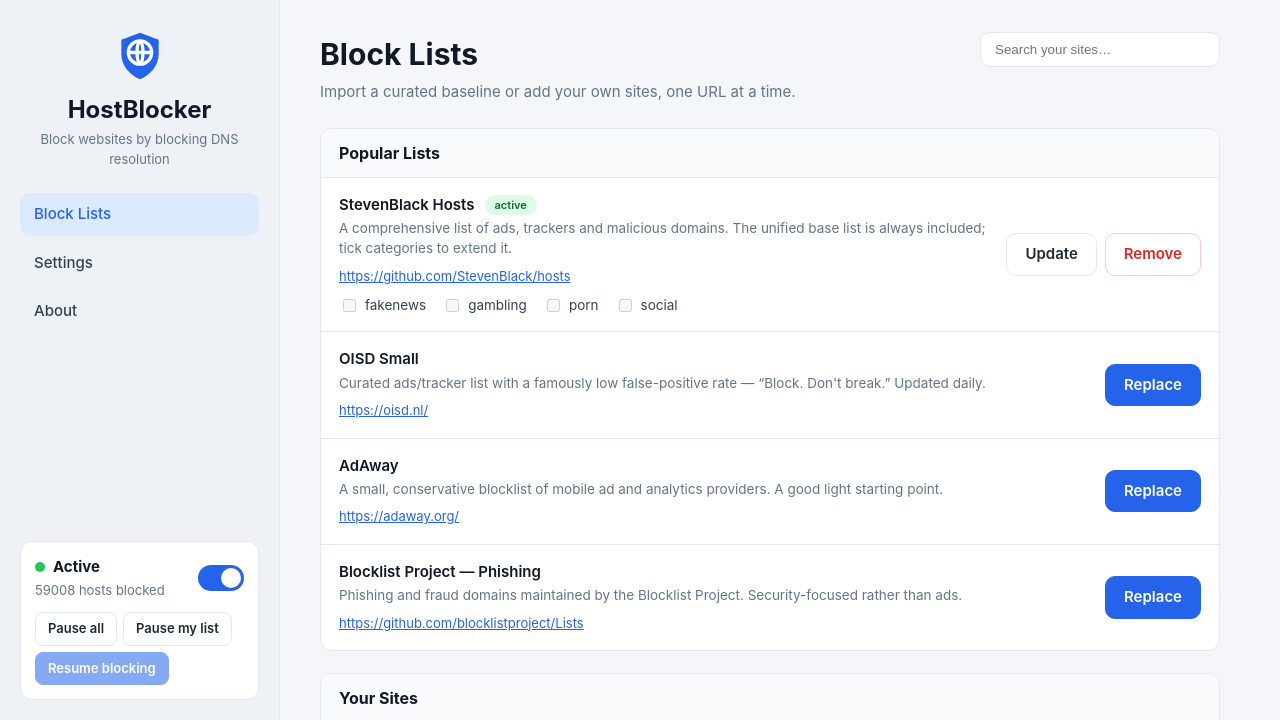
App › filters the site list through the search box, case- and space-insensitively
Type "  YouTuBe " into the search field.
click(1100, 50); type("  YouTuBe ")  # box [980,32,1220,67]
(page scrolled)
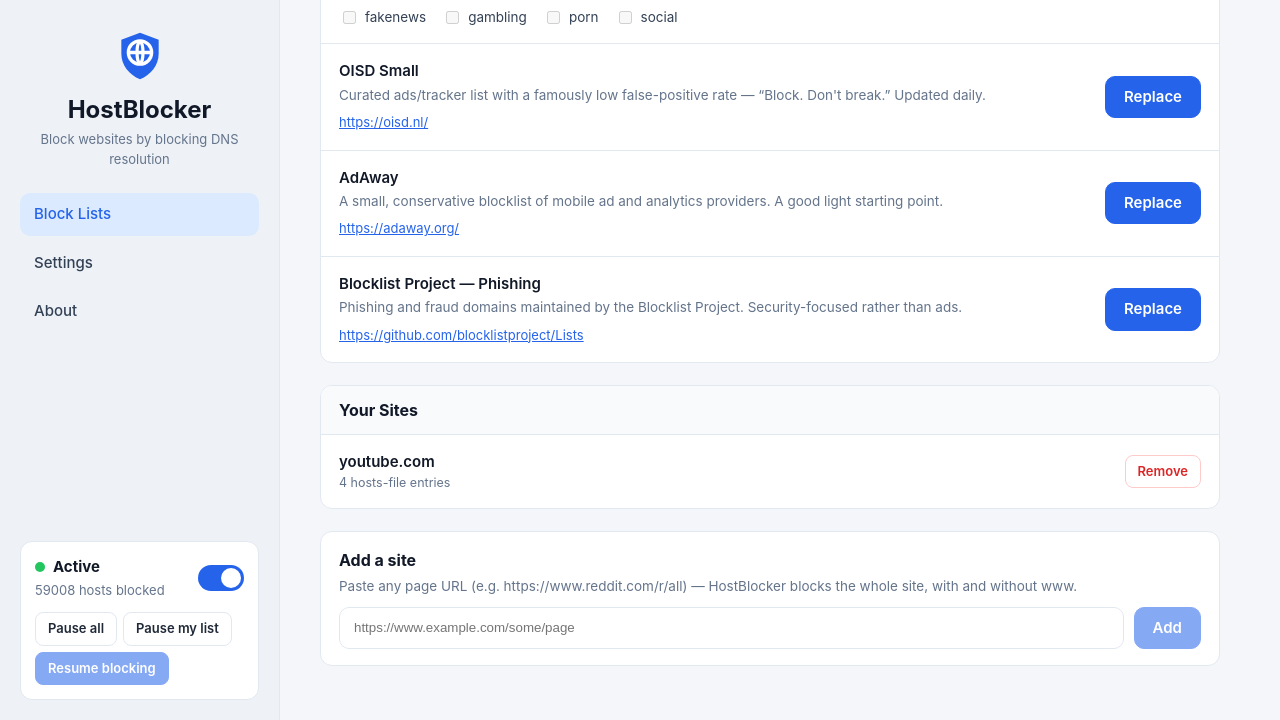
Expected: the text "youtube.com" is shown, [339,452,435,471]
